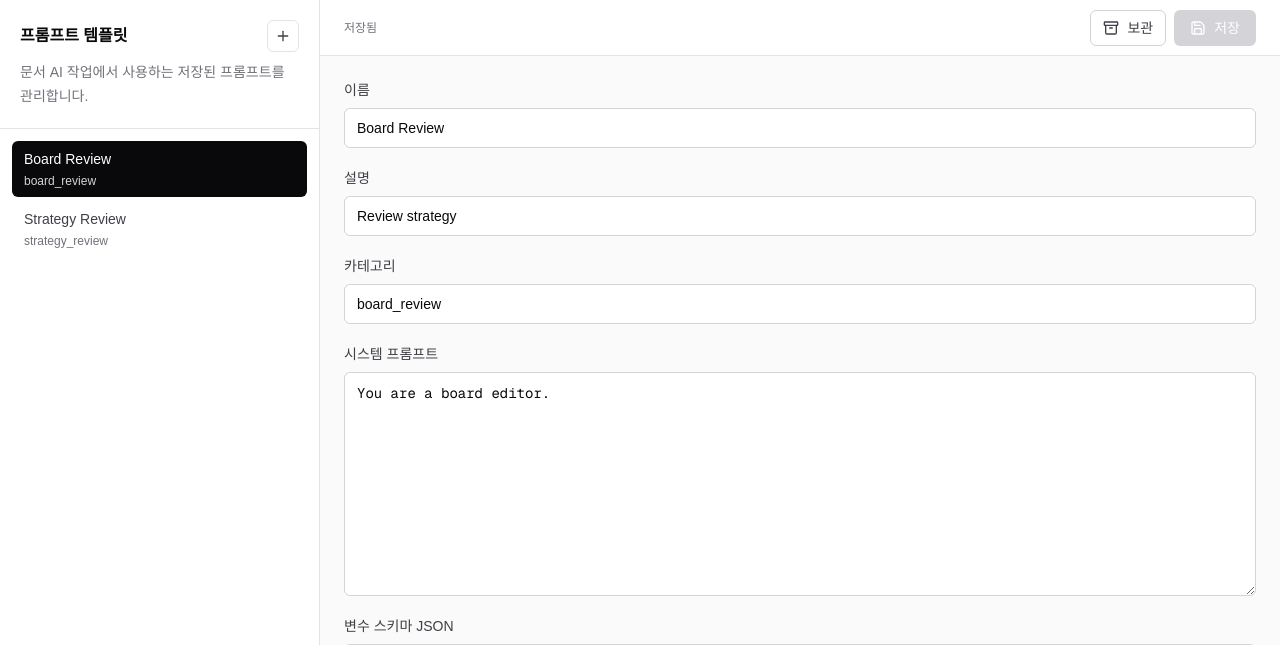
PromptTemplateManager › does not let an older save response replace the draft after selecting another template
Replace the text in the field labelled "이름" with "Strategy Review v2". click: {"x": 800, "y": 128}
box: [344,108,1256,148]
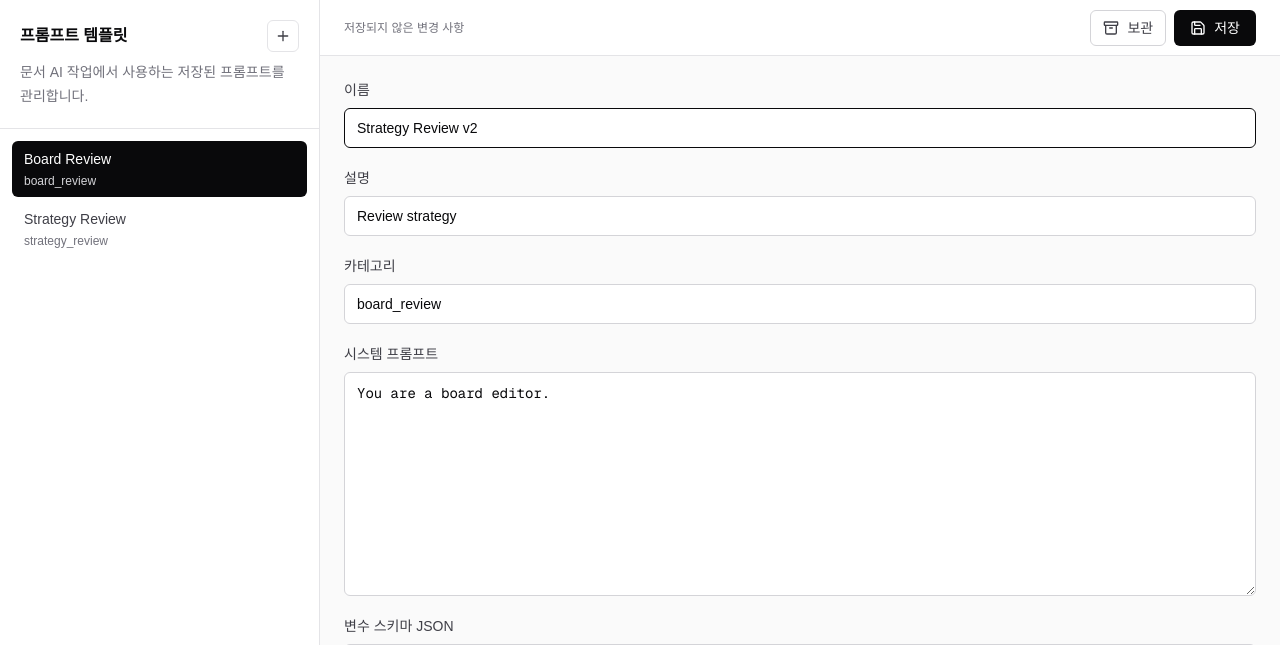
Click the button "저장". click: {"x": 1215, "y": 28}
box: [1174,10,1256,46]
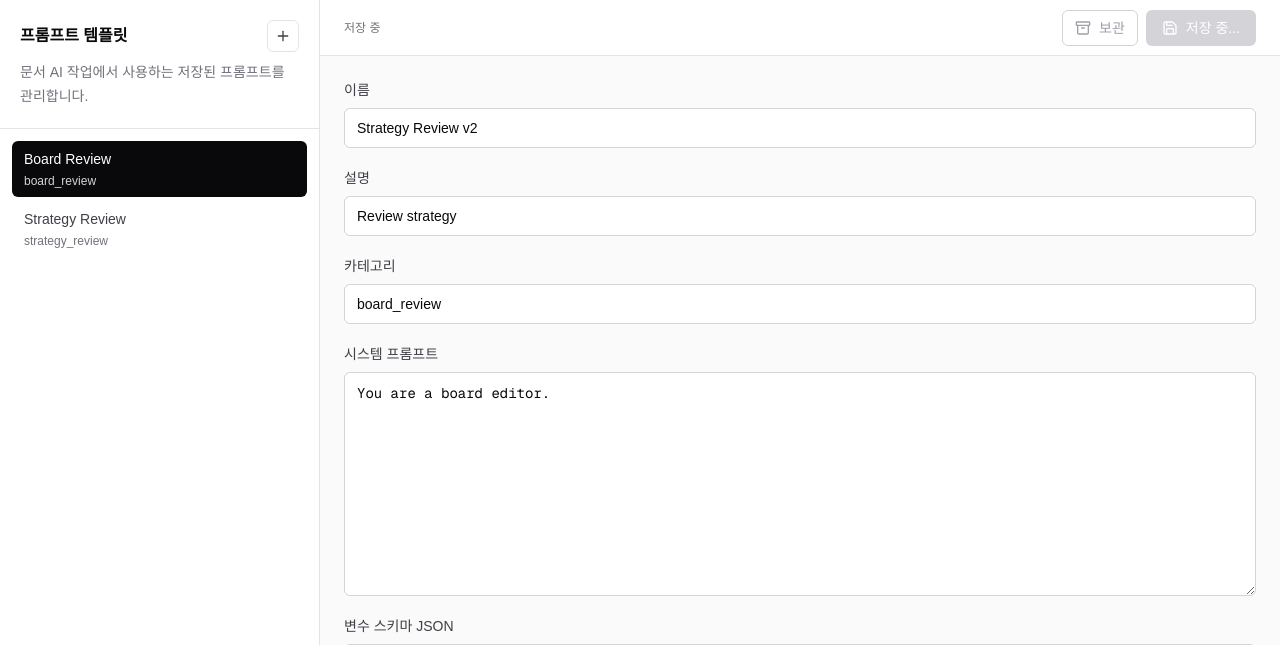
Click the button "Board Review board_review". click: {"x": 68, "y": 159}
box: [12,141,307,197]
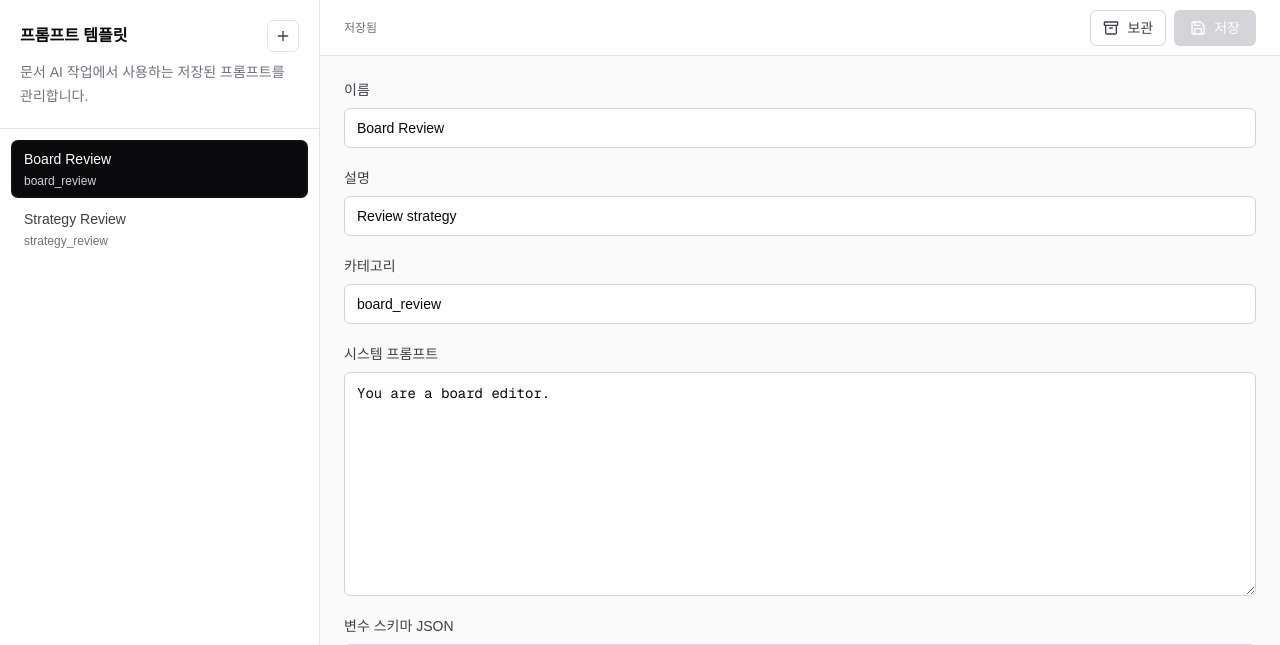
Expected: the text box showing "You are a board editor." is shown, [344,372,1256,596]
Result: the field labelled "이름" holds "Board Review" at [344,108,1256,148]
